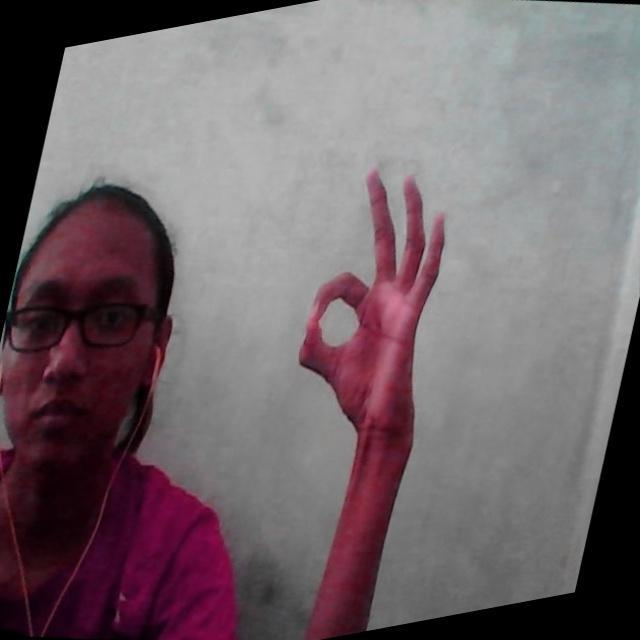O: (293, 165, 452, 428)
